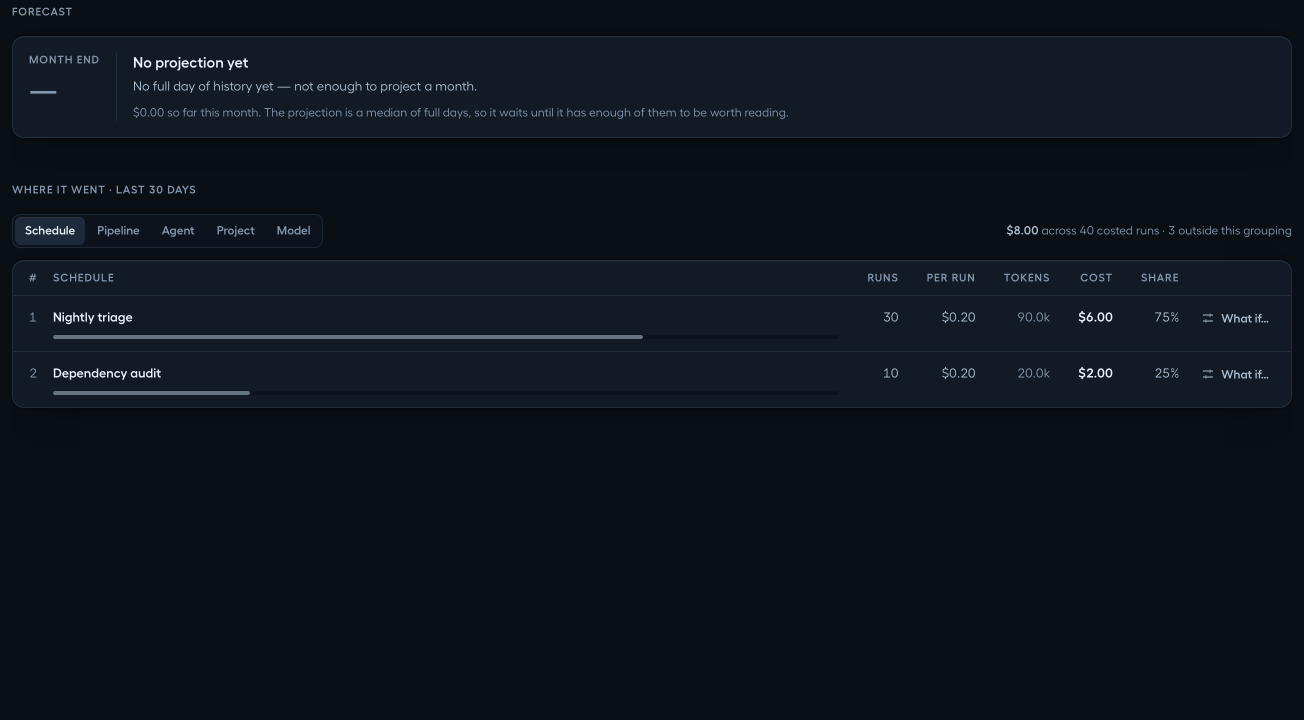
it: LedgerPanels › regression: an unanswerable what-if shows the reason, not a zero saving
What coordinates should you click on to do the following:
click the button "What if…" in the row of "Nightly triage"
I would click on:
 (1235, 318)
Its box is [1191,304,1279,332].
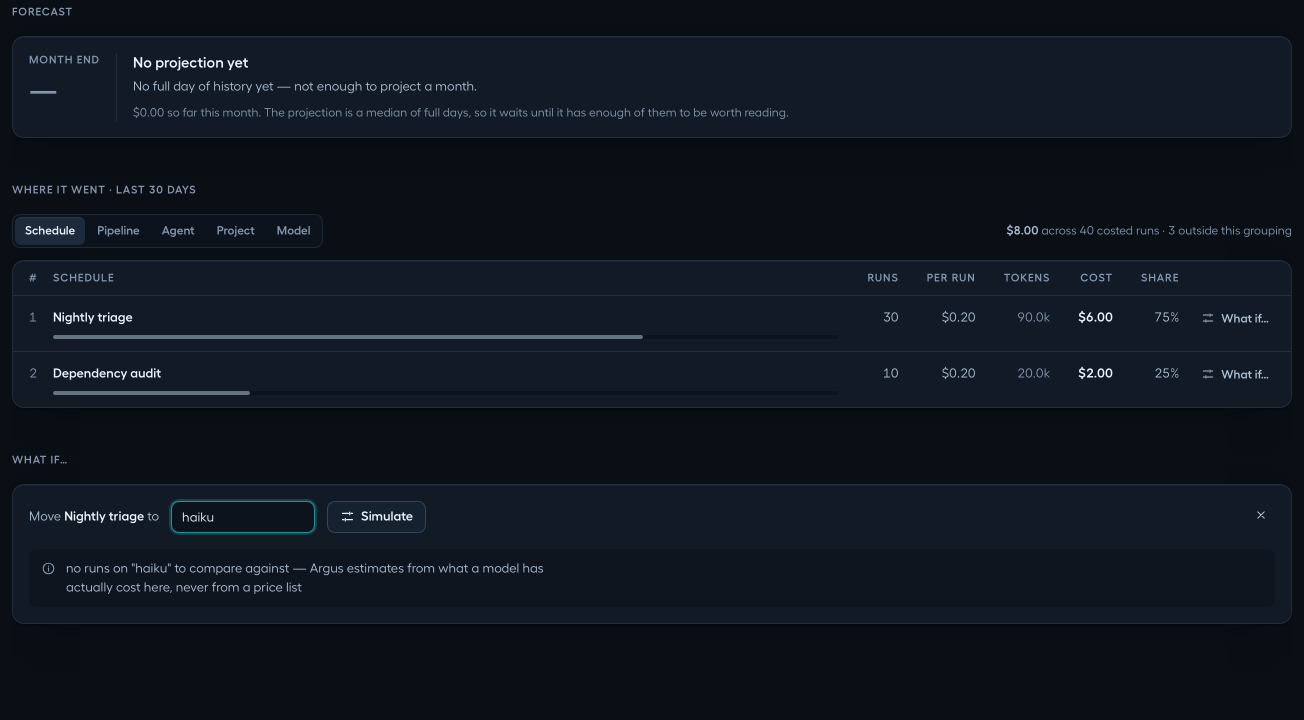
Check: the text "never from a price list" is shown, box [66,561,544,593]
